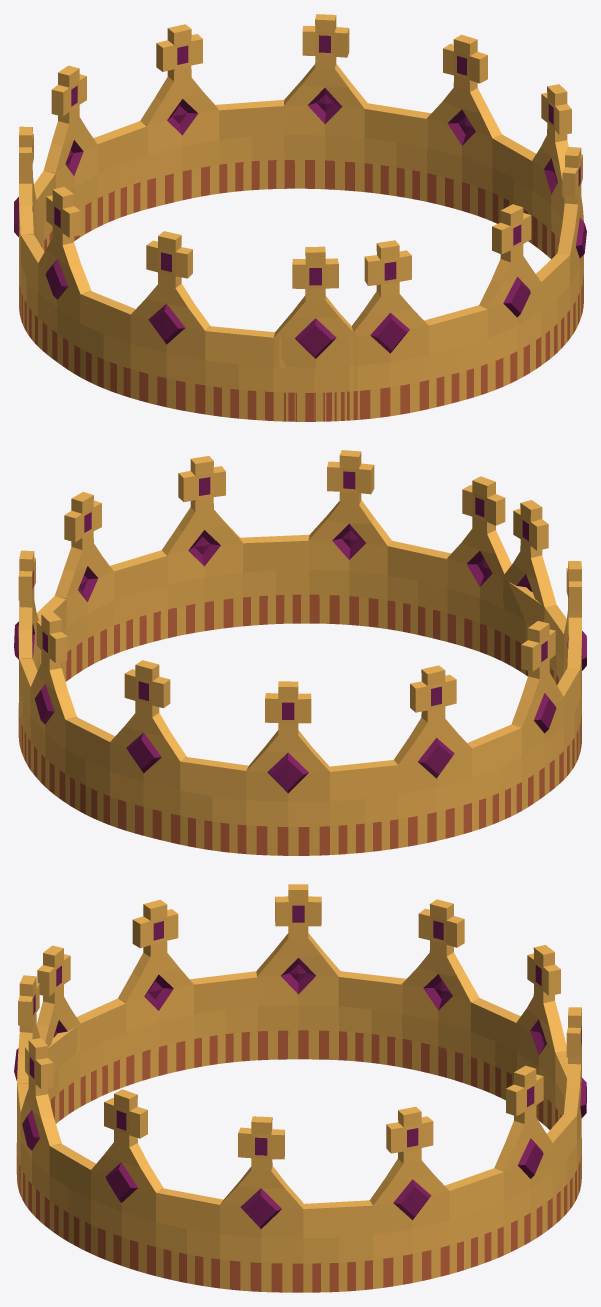
File: Win_Krone.glb
3 views of the same model, one above another, from view 1: azimuth 30°, elevation 25°; view 2: azimuth 150°, elevation 25°; view 3: azimuth 270°, elevation 25° (orthographic).
Parts seen in each view (by area): view 1: Plane; view 2: Plane; view 3: Plane.
Part boxes in pixels (left/top/right/bottom): Plane: left=14, top=14, right=586, bottom=421; Plane: left=14, top=450, right=586, bottom=855; Plane: left=14, top=884, right=586, bottom=1292.
Bounding box in the file's own units: 0.4302 × 0.14 × 0.429.
1 material, 1 textured.
